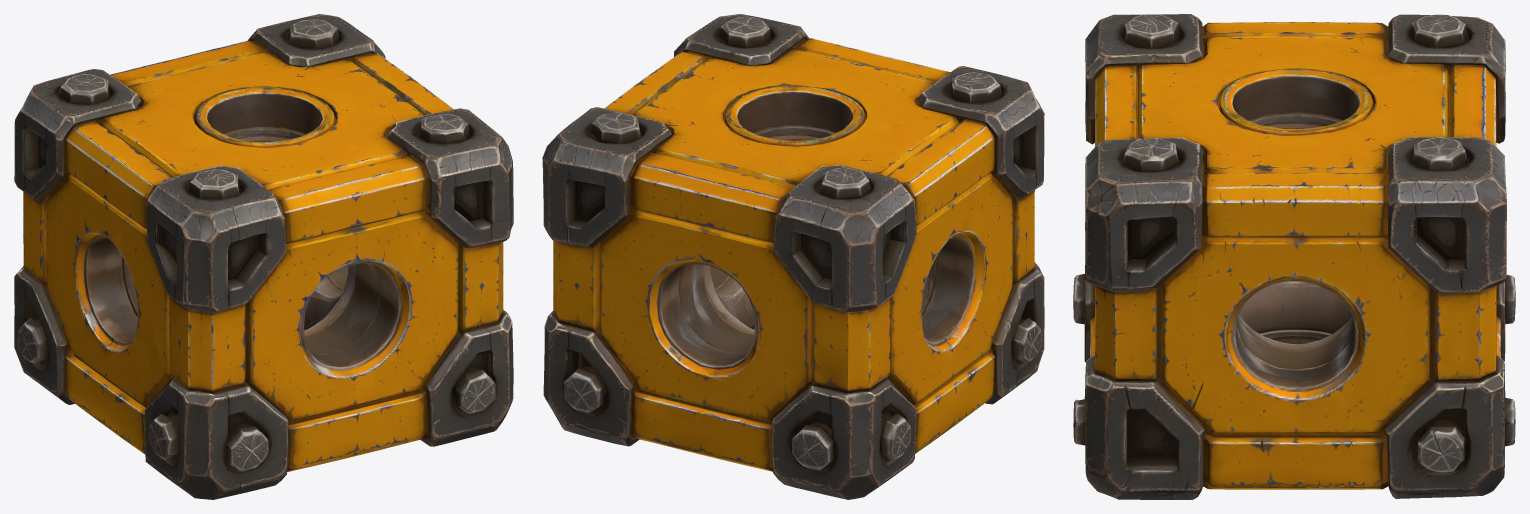
File: base_basic_pbr.glb
3 renders of one model, left to right at view 1: azimuth 30°, elevation 25°; view 2: azimuth 150°, elevation 25°; view 3: azimuth 270°, elevation 25°, orthographic. The views are drawn at different scales.
Parts seen in each view (by area): view 1: model; view 2: model; view 3: model.
Boxes of the visible parts, <box> form: model: <box>14,14,513,499</box>; model: <box>542,14,1044,499</box>; model: <box>1073,14,1515,499</box>.
Size of the model in its own units: 1.9 by 1.62 by 1.9.
Materials: 1 (1 with a texture image).
